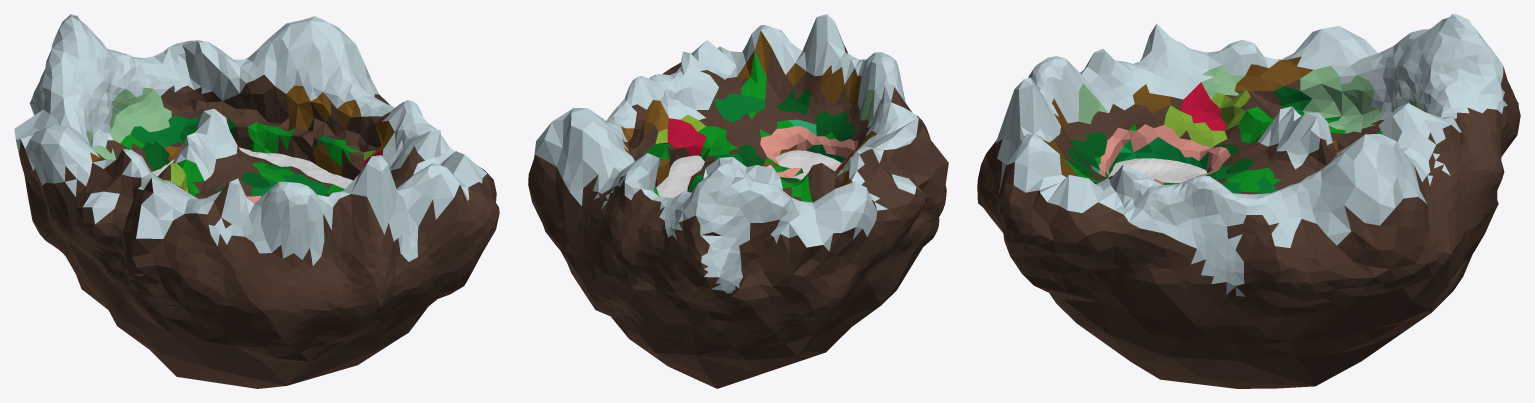
File: mapDesign.fbx
3 renders of one model, left to right at view 1: azimuth 30°, elevation 25°; view 2: azimuth 150°, elevation 25°; view 3: azimuth 270°, elevation 25°, orthographic. The views are drawn at different scales.
Visible parts, largest first — view 1: River.002; view 2: River.002; view 3: River.002.
Boxes of the visible parts, x1,y1,x2,y2 form: River.002: [14, 14, 499, 388]; River.002: [528, 14, 948, 388]; River.002: [977, 14, 1520, 388].
Bounding box in the file's own units: 21932 × 18353 × 27335.
